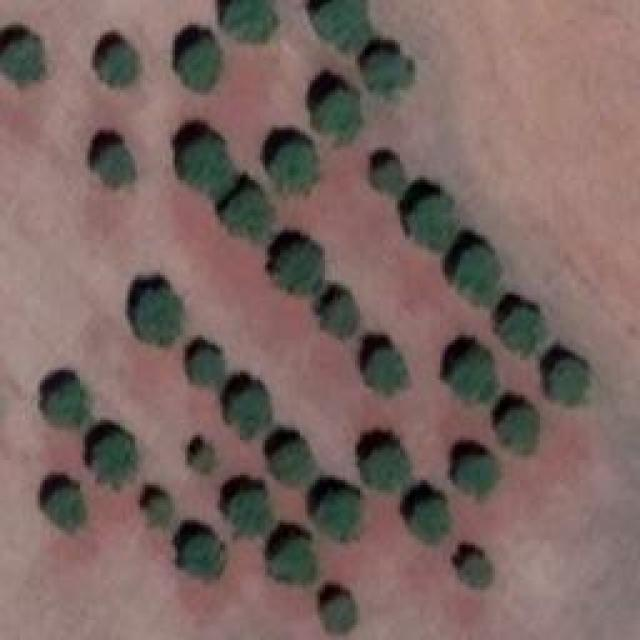Tree: (180, 135, 235, 190), (408, 188, 458, 248), (450, 343, 498, 403), (317, 0, 372, 52), (455, 242, 503, 300), (272, 140, 320, 195), (228, 382, 273, 440), (95, 428, 138, 488), (315, 85, 363, 138), (275, 243, 325, 293), (138, 285, 183, 340), (177, 40, 225, 90), (315, 490, 363, 540), (278, 435, 321, 490), (363, 445, 413, 490), (0, 40, 45, 88), (453, 458, 503, 501), (225, 0, 278, 40), (230, 488, 270, 541), (500, 305, 543, 353), (230, 190, 270, 238), (555, 357, 595, 405), (183, 535, 223, 580), (370, 345, 405, 395), (500, 408, 538, 453), (323, 290, 358, 338), (97, 143, 135, 186), (52, 488, 90, 531), (98, 47, 138, 85), (370, 158, 408, 198), (273, 543, 316, 578), (415, 498, 448, 543), (45, 385, 83, 423), (373, 53, 413, 88), (325, 598, 358, 633), (193, 350, 223, 388), (458, 555, 493, 585), (150, 497, 175, 525), (193, 443, 216, 473)
